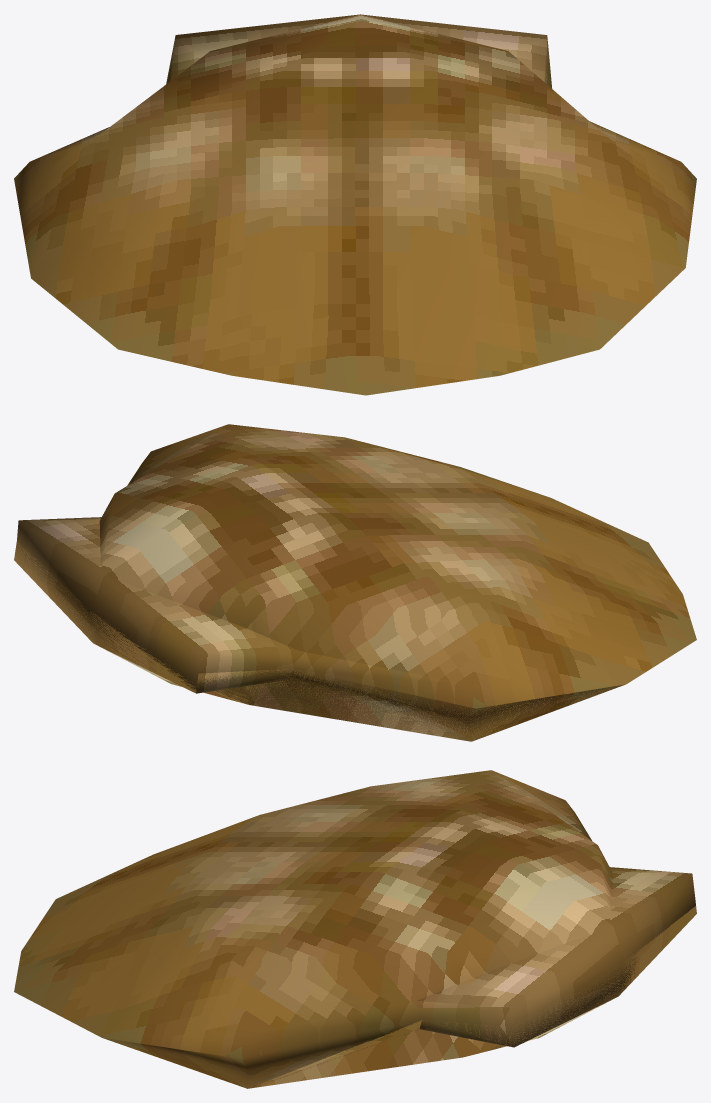
The model's file is int_shl_hotate.dae.
3 views of the same model, one above another, from view 1: azimuth 30°, elevation 25°; view 2: azimuth 150°, elevation 25°; view 3: azimuth 270°, elevation 25° (orthographic). The views are drawn at different scales.
Visible parts, largest first — view 1: int_shl_hotate; view 2: int_shl_hotate; view 3: int_shl_hotate.
Boxes of the visible parts, <box> form: int_shl_hotate: <box>14,14,696,395</box>; int_shl_hotate: <box>14,424,696,741</box>; int_shl_hotate: <box>14,770,696,1088</box>.
Bounding box in the file's own units: 16.09 × 5.21 × 16.67.
1 material, 1 textured.
